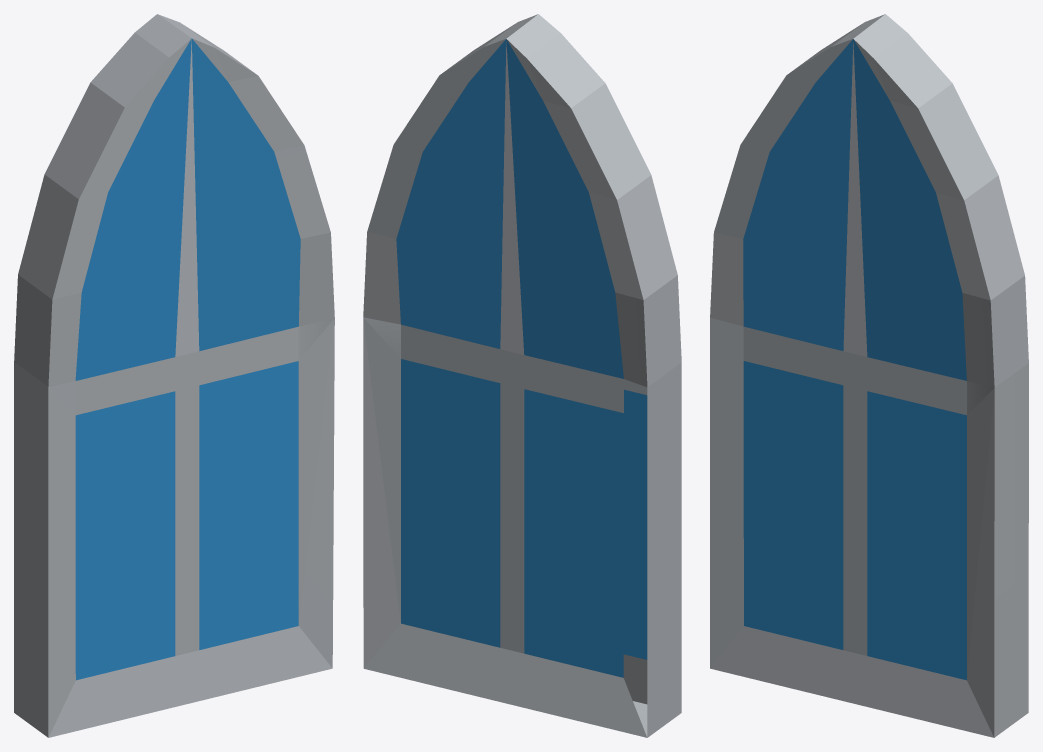
File: window_gothic.glb
3 views of the same model, side by side, from view 1: azimuth 30°, elevation 25°; view 2: azimuth 150°, elevation 25°; view 3: azimuth 330°, elevation 25° (orthographic).
Visible parts, largest first — view 1: window_gothic; view 2: window_gothic; view 3: window_gothic.
Part boxes in pixels (x1,y1,x2,y2): window_gothic: (14, 14, 334, 737); window_gothic: (363, 14, 681, 737); window_gothic: (710, 14, 1028, 737).
Bounding box in the file's own units: 0.4313 × 0.9598 × 0.0923.
2 materials, 1 textured.
